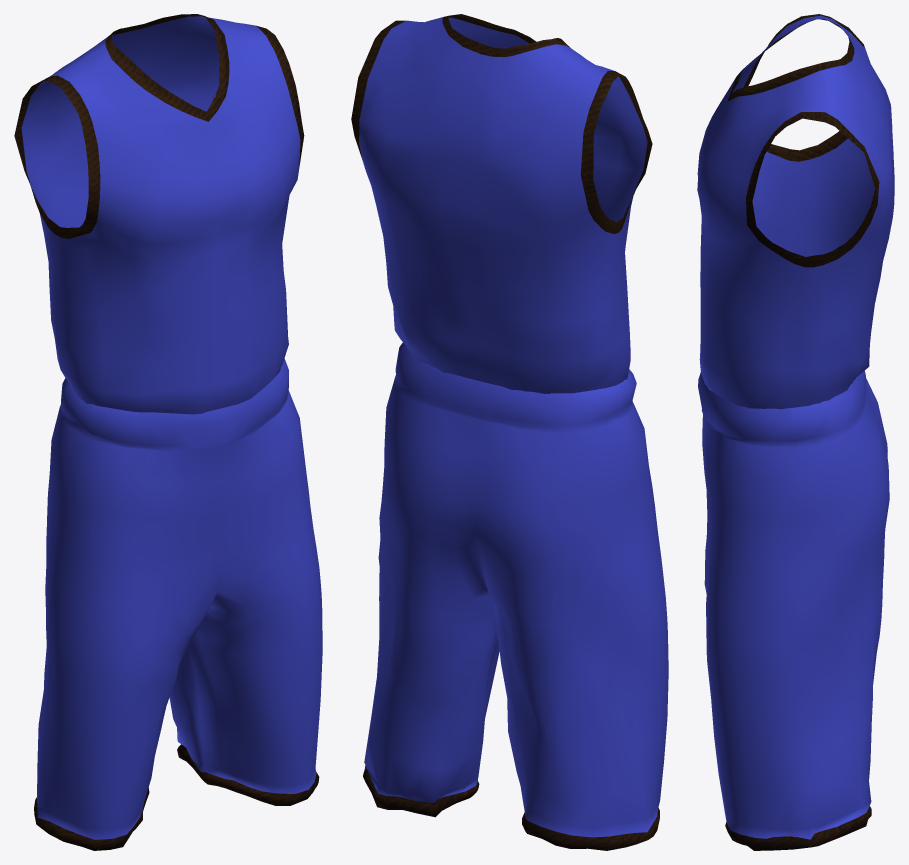
File: Basic_Jersey_4.gltf
3 views of the same model, side by side, from view 1: azimuth 30°, elevation 25°; view 2: azimuth 150°, elevation 25°; view 3: azimuth 270°, elevation 25° (orthographic). The views are drawn at different scales.
Visible parts, largest first — view 1: V_Neck; view 2: V_Neck; view 3: V_Neck.
Boxes of the visible parts, x1,y1,x2,y2 form: V_Neck: (14, 14, 322, 850); V_Neck: (351, 14, 668, 850); V_Neck: (697, 14, 894, 850).
Bounding box in the file's own units: 1.64 × 4.49 × 1.07.
Materials: 2 (2 with a texture image).
